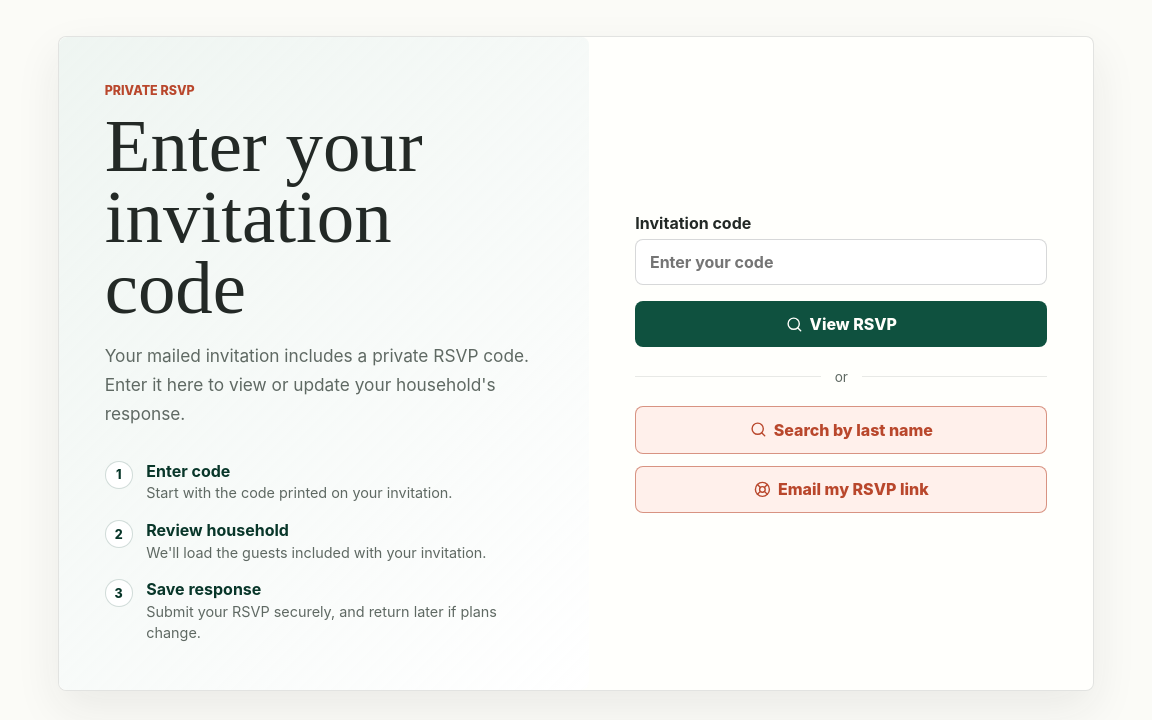
Test case: RsvpLookupPage › requires a last name before searching
This screenshot has width=1152, height=720.
Click the button "Search by last name" at x=841, y=430, box [635, 406, 1047, 454]
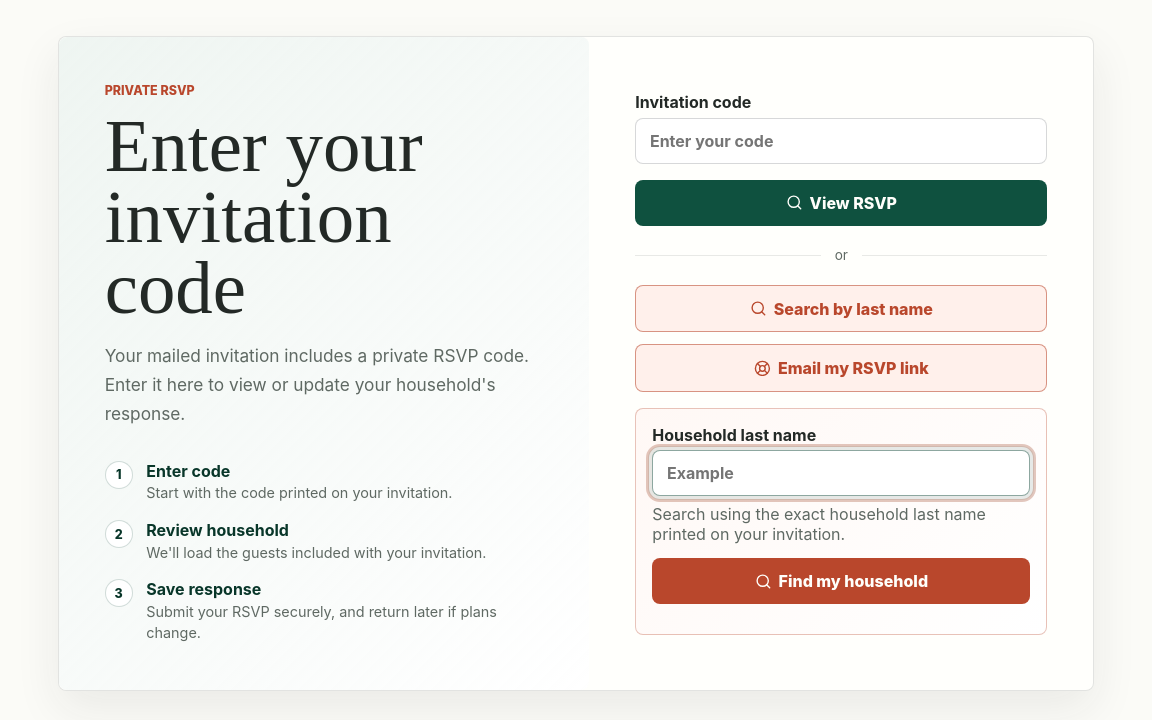
Click the button "Find my household" at x=841, y=581, box [652, 558, 1030, 604]
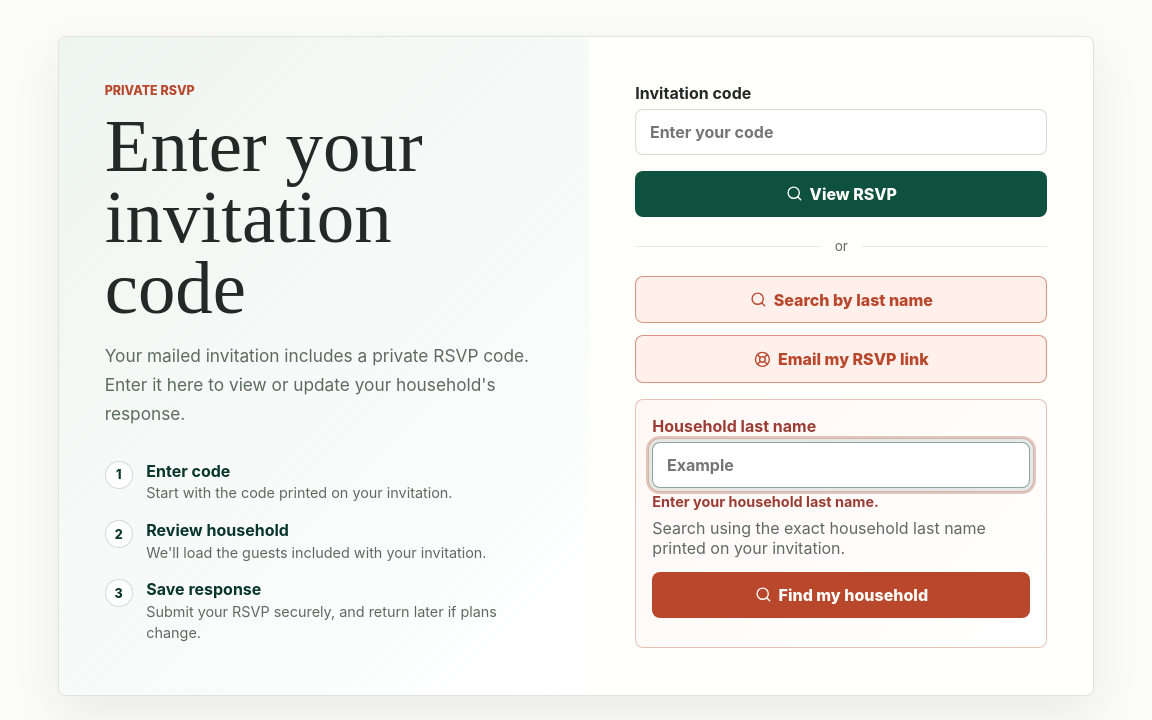
Now the text "Enter your household last name." is shown, box [652, 493, 879, 510]
